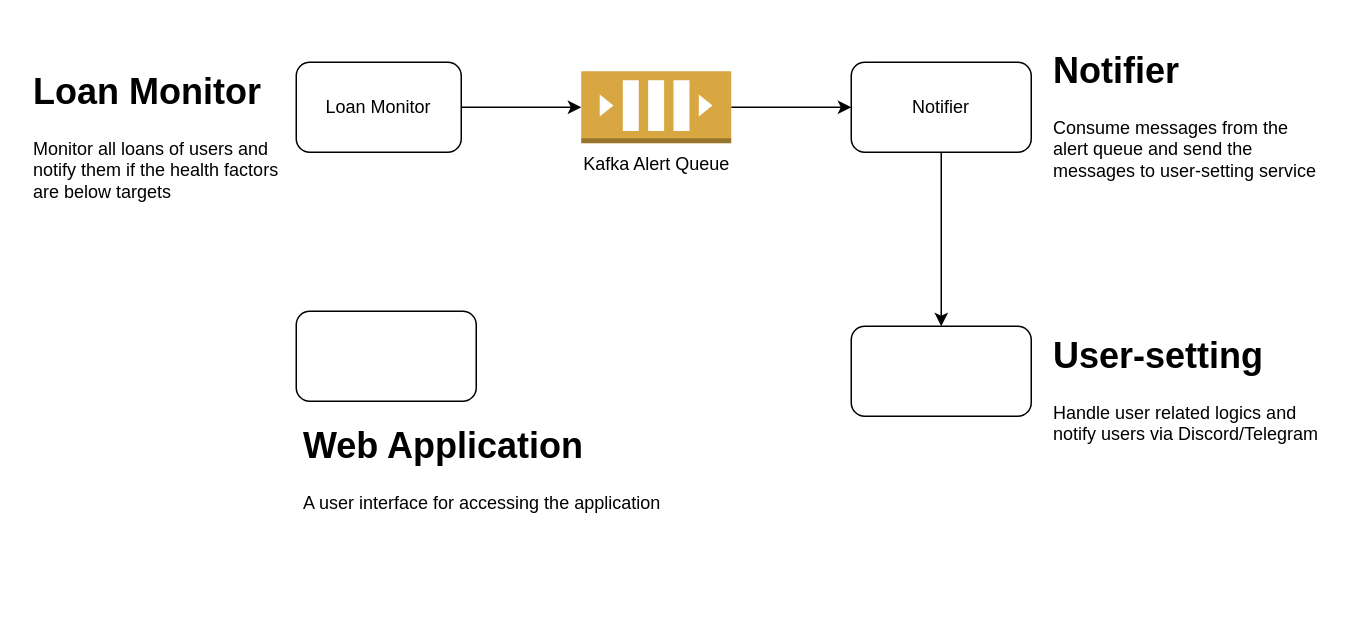
Some shapes in this 1356 by 621 pixel diagram are drawn without their labels. Each missing label, with the box of its shape:
User Setting: (850, 325, 1031, 416)
Web Application: (295, 310, 476, 401)
